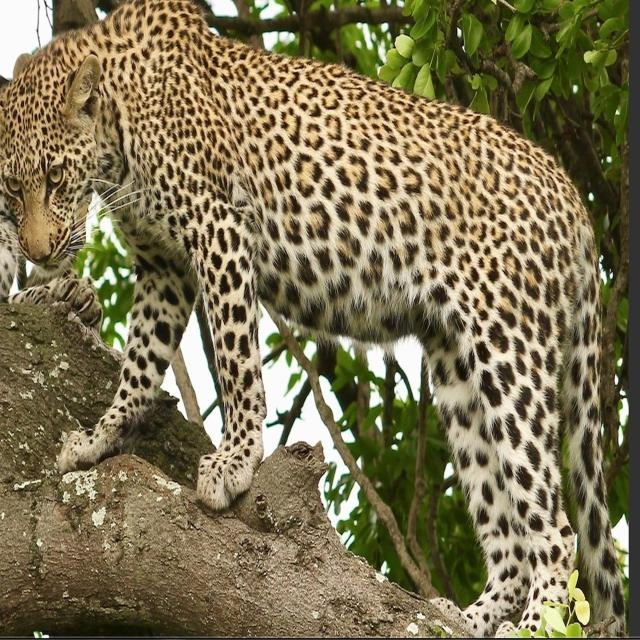Leopard: (0, 0, 625, 612)
